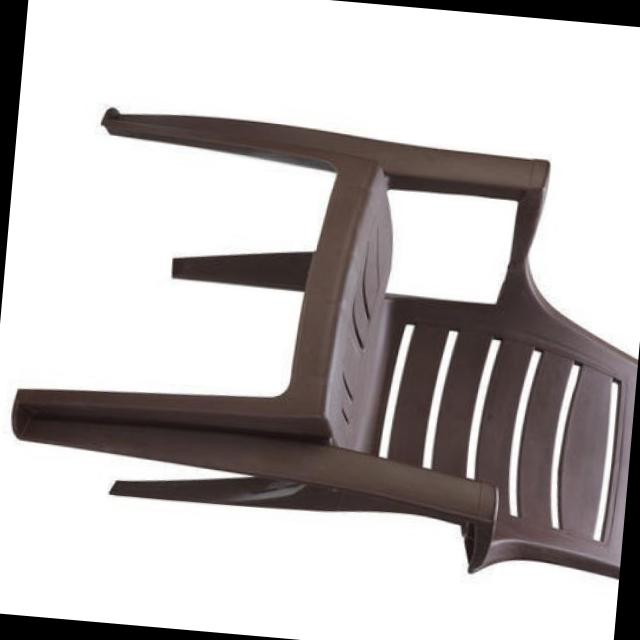Chair: (0, 89, 640, 588)
